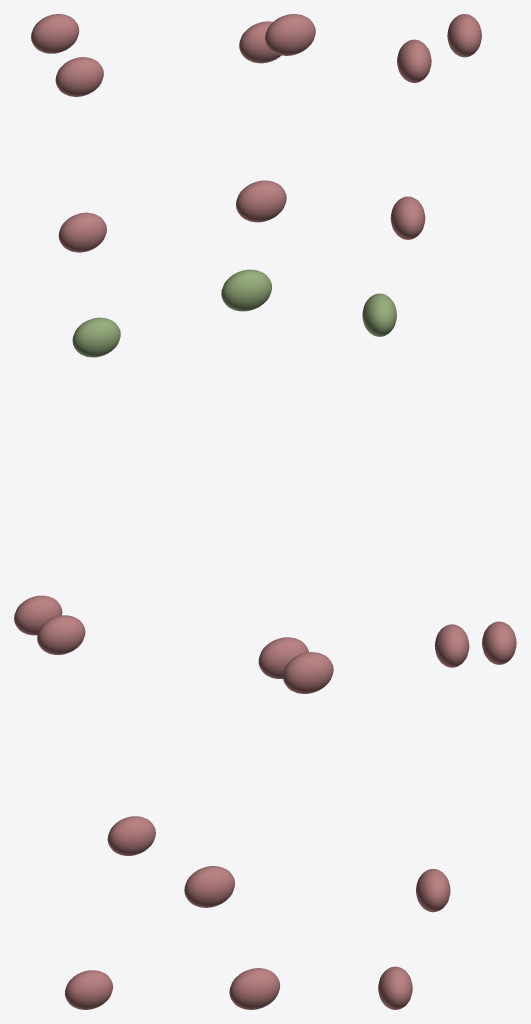
The model's file is endocrine-system.glb.
The picture shows the model from 3 angles, left to right: view 1: azimuth 30°, elevation 25°; view 2: azimuth 210°, elevation 25°; view 3: azimuth 270°, elevation 25°; orthographic projection. The views are drawn at different scales.
Parts seen in each view (by area): view 1: dev-marker-thymus, dev-marker-pineal-gland, dev-marker-pancreas, dev-marker-ovaries, dev-marker-parathyroids, dev-marker-pituitary, dev-marker-testes, dev-marker-adrenal-glands; view 2: dev-marker-parathyroids, dev-marker-thymus, dev-marker-pineal-gland, dev-marker-adrenal-glands, dev-marker-testes, dev-marker-ovaries, dev-marker-pancreas, dev-marker-pituitary; view 3: dev-marker-adrenal-glands, dev-marker-thymus, dev-marker-parathyroids, dev-marker-pancreas, dev-marker-testes, dev-marker-pituitary, dev-marker-pineal-gland, dev-marker-ovaries.
Part boxes in pixels (left/top/right/bottom): dev-marker-thymus: left=72, top=317, right=120, bottom=357; dev-marker-pineal-gland: left=31, top=14, right=79, bottom=53; dev-marker-pancreas: left=37, top=615, right=85, bottom=654; dev-marker-ovaries: left=107, top=816, right=155, bottom=855; dev-marker-parathyroids: left=58, top=212, right=106, bottom=252; dev-marker-pituitary: left=55, top=57, right=103, bottom=96; dev-marker-testes: left=65, top=970, right=112, bottom=1009; dev-marker-adrenal-glands: left=14, top=595, right=62, bottom=635; dev-marker-parathyroids: left=236, top=180, right=286, bottom=222; dev-marker-thymus: left=221, top=269, right=271, bottom=311; dev-marker-pineal-gland: left=265, top=14, right=315, bottom=55; dev-marker-adrenal-glands: left=283, top=652, right=333, bottom=693; dev-marker-testes: left=229, top=968, right=280, bottom=1009; dev-marker-ovaries: left=184, top=866, right=234, bottom=907; dev-marker-pancreas: left=258, top=637, right=308, bottom=678; dev-marker-pituitary: left=239, top=21, right=281, bottom=63; dev-marker-adrenal-glands: left=482, top=621, right=516, bottom=664; dev-marker-thymus: left=362, top=293, right=396, bottom=336; dev-marker-parathyroids: left=390, top=196, right=425, bottom=239; dev-marker-pancreas: left=434, top=624, right=469, bottom=667; dev-marker-testes: left=378, top=966, right=412, bottom=1009; dev-marker-pituitary: left=397, top=39, right=431, bottom=82; dev-marker-pineal-gland: left=447, top=14, right=481, bottom=57; dev-marker-ovaries: left=416, top=869, right=450, bottom=912.
Bounding box in the file's own units: 0.4 × 3.47 × 0.49.
